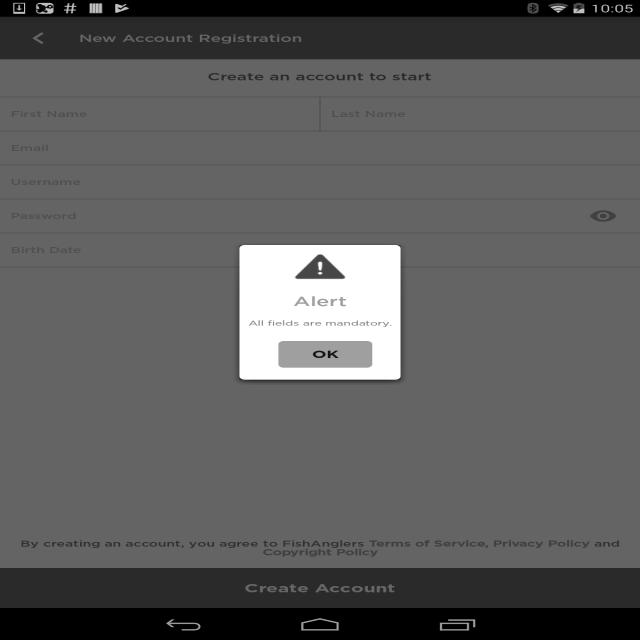Button: (273, 338, 378, 370)
ImageButton: (2, 564, 637, 612), (24, 28, 65, 53)
ImageView: (290, 250, 350, 282)
TextView: (20, 536, 627, 550), (203, 66, 441, 88), (72, 28, 309, 48), (244, 313, 397, 330)
